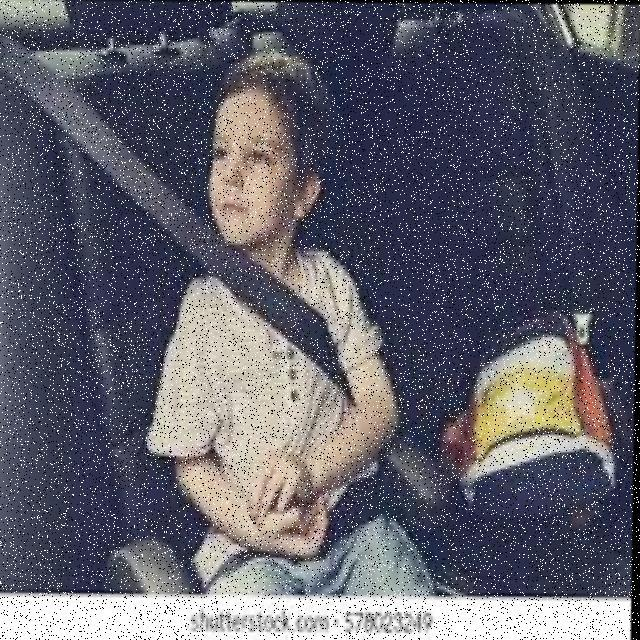seatbelt: (154, 222, 420, 575)
